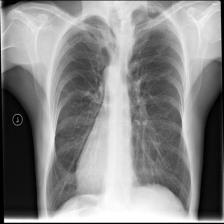normal: (43, 6, 196, 217)
